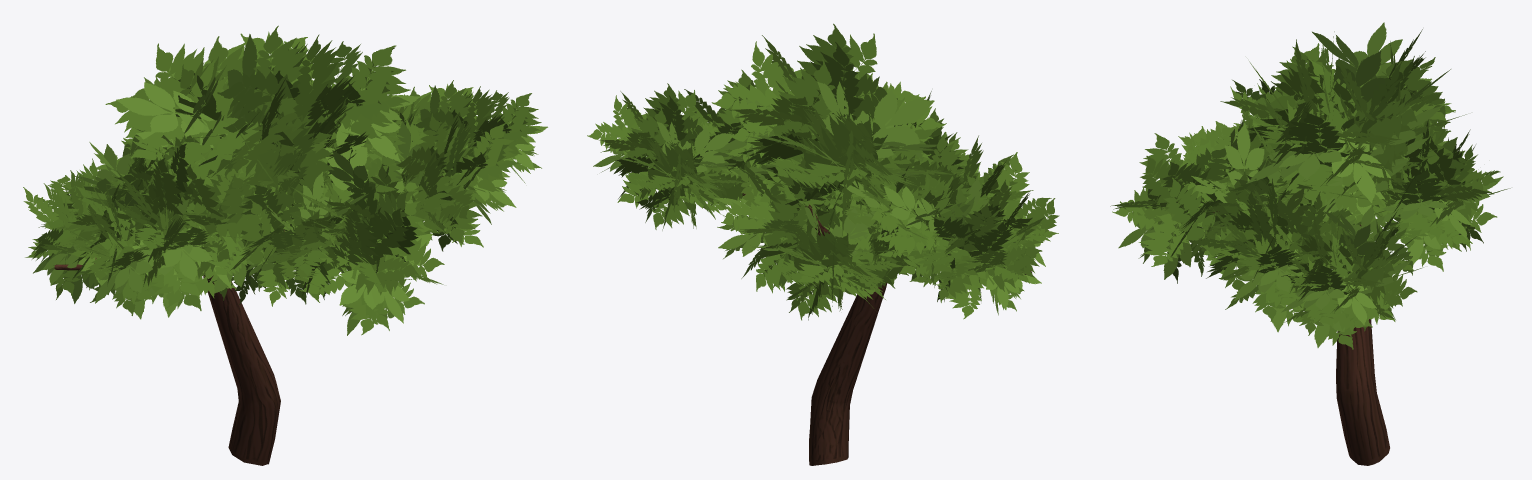
The model's file is SM_Common_Tree_10.glb.
3 views of the same model, side by side, from view 1: azimuth 30°, elevation 25°; view 2: azimuth 150°, elevation 25°; view 3: azimuth 270°, elevation 25° (orthographic). The views are drawn at different scales.
Parts seen in each view (by area): view 1: SM_Common_Tree_10; view 2: SM_Common_Tree_10; view 3: SM_Common_Tree_10.
Boxes of the visible parts, x1,y1,x2,y2 form: SM_Common_Tree_10: (23, 25, 547, 465); SM_Common_Tree_10: (587, 23, 1059, 465); SM_Common_Tree_10: (1110, 22, 1510, 465).
Bounding box in the file's own units: 9.44 × 7.94 × 6.93.
Materials: 2 (2 with a texture image).
